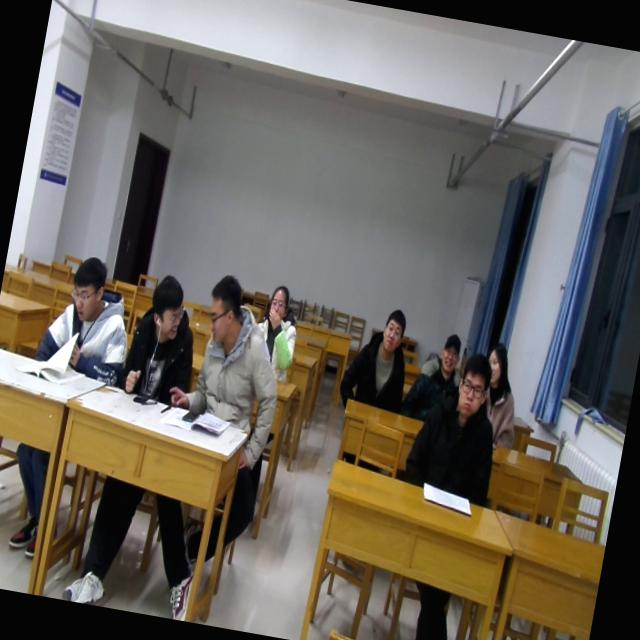down: (63, 250, 110, 326)
lookup: (449, 346, 495, 422), (374, 300, 410, 356), (480, 336, 513, 386), (262, 275, 294, 326), (434, 326, 465, 374)
sit: (165, 266, 297, 430), (397, 351, 512, 505), (28, 250, 145, 388), (114, 267, 209, 408), (334, 300, 418, 418), (398, 326, 471, 428), (245, 278, 307, 388), (470, 339, 530, 446)
